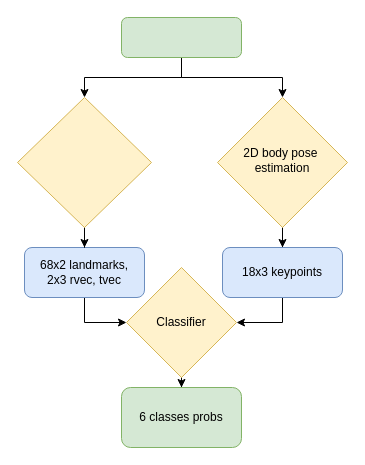
The diagram is 365 pixels wide and 465 high, and some of its shapes have lost their labels. The shapes that lost their labels are listed below. From the top down, each one's centre as x and y in pixels, then its label:
At point 181,37: "Image (from web camera)".
At point 84,162: "3D head pose estimation".
